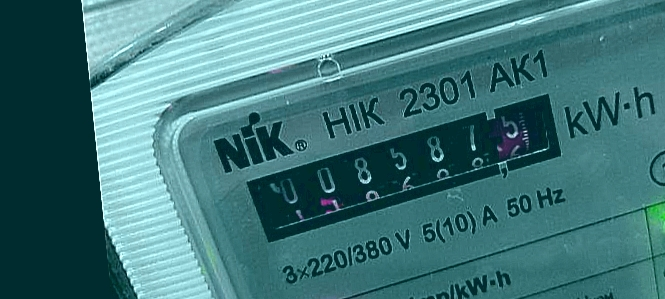0: (310, 160, 339, 197), (273, 172, 302, 207)
5: (384, 140, 410, 173), (495, 107, 520, 140)
6: (504, 142, 523, 160)
7: (457, 120, 482, 156)
8: (348, 153, 375, 187), (420, 131, 446, 166)
screen: (230, 90, 588, 246)
